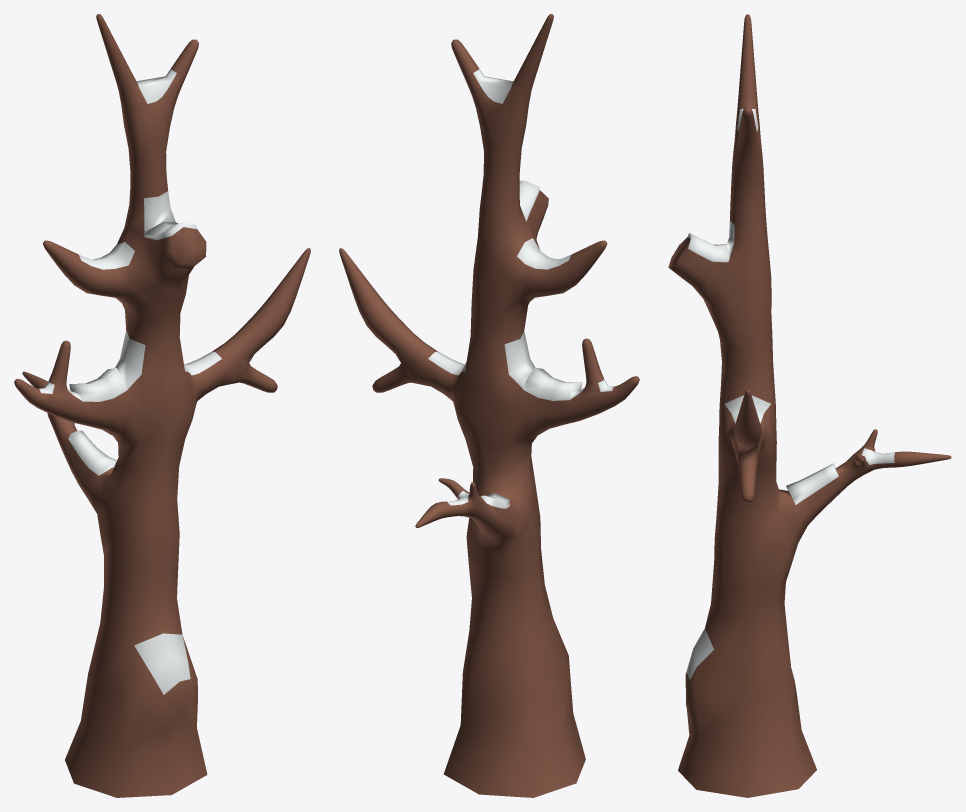
The model's file is Tree Big 2.fbx.
The picture shows the model from 3 angles, left to right: view 1: azimuth 30°, elevation 25°; view 2: azimuth 150°, elevation 25°; view 3: azimuth 270°, elevation 25°; orthographic projection. The views are drawn at different scales.
Parts seen in each view (by area): view 1: Tree Big 2; view 2: Tree Big 2; view 3: Tree Big 2.
Boxes of the visible parts, left/top/right/bottom form: Tree Big 2: left=14, top=14, right=310, bottom=797; Tree Big 2: left=339, top=14, right=639, bottom=797; Tree Big 2: left=668, top=14, right=951, bottom=797.
Size of the model in its own units: 1984 by 4859 by 1688.
